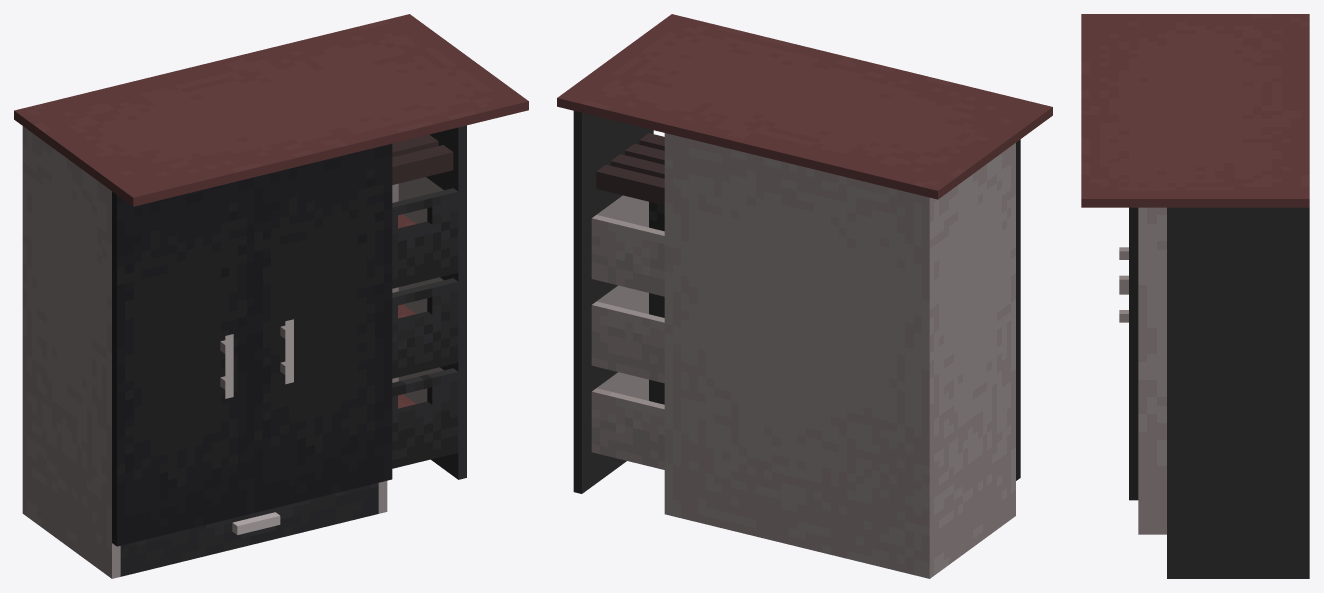
The model's file is closet.glb.
3 renders of one model, left to right at view 1: azimuth 30°, elevation 25°; view 2: azimuth 150°, elevation 25°; view 3: azimuth 270°, elevation 25°, orthographic. The views are drawn at different scales.
Parts seen in each view (by area): view 1: Object_2; view 2: Object_2; view 3: Object_2.
Boxes of the visible parts, box(x1,y1,x2,y2) form: Object_2: box(14, 14, 528, 578); Object_2: box(557, 14, 1052, 578); Object_2: box(1081, 14, 1309, 578).
Bounding box in the file's own units: 1.95 × 1.91 × 1.02.
1 material, 1 textured.
